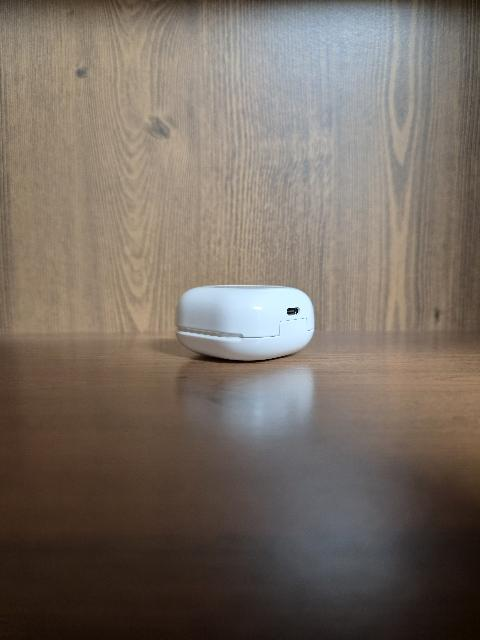earphone_case: (175, 285, 314, 361)
